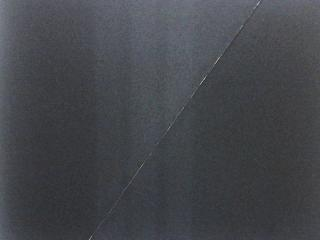crack: (88, 0, 264, 240)
